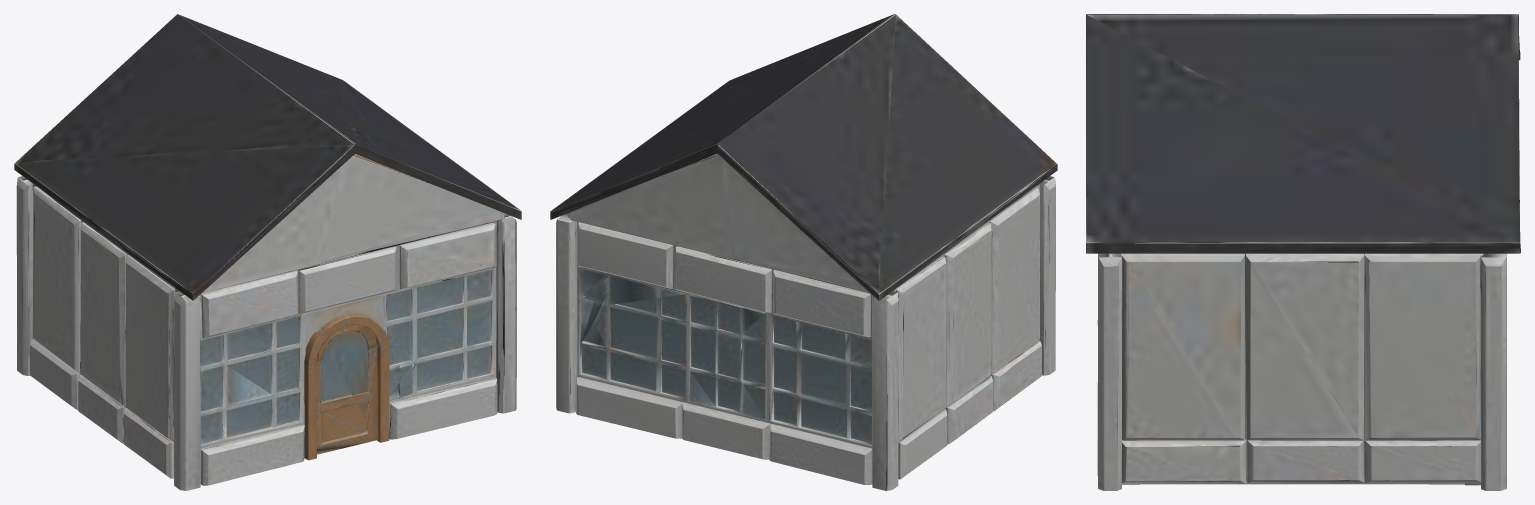
Rendered from 12-restaurant.glb.
3 views of the same model, side by side, from view 1: azimuth 30°, elevation 25°; view 2: azimuth 150°, elevation 25°; view 3: azimuth 270°, elevation 25° (orthographic). The views are drawn at different scales.
Visible parts, largest first — view 1: geometry_0; view 2: geometry_0; view 3: geometry_0.
Part boxes in pixels (left/top/right/bottom): geometry_0: left=14, top=14, right=521, bottom=490; geometry_0: left=550, top=14, right=1057, bottom=490; geometry_0: left=1086, top=14, right=1520, bottom=490.
Size of the model in its own units: 0.7847 by 0.6934 by 0.7227.
Materials: 1 (1 with a texture image).
